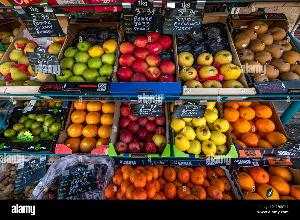apple: (176, 25, 244, 90), (54, 24, 120, 84), (119, 24, 179, 86), (0, 24, 62, 84), (120, 96, 168, 160), (172, 98, 222, 156)
grape: (44, 156, 110, 200), (1, 154, 56, 202)
kiwi: (236, 18, 300, 86)
lime: (1, 107, 64, 156)
orange: (110, 163, 241, 201), (226, 101, 288, 155), (235, 161, 300, 201)
